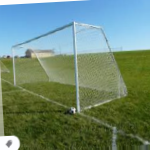goals: (13, 20, 127, 113)
